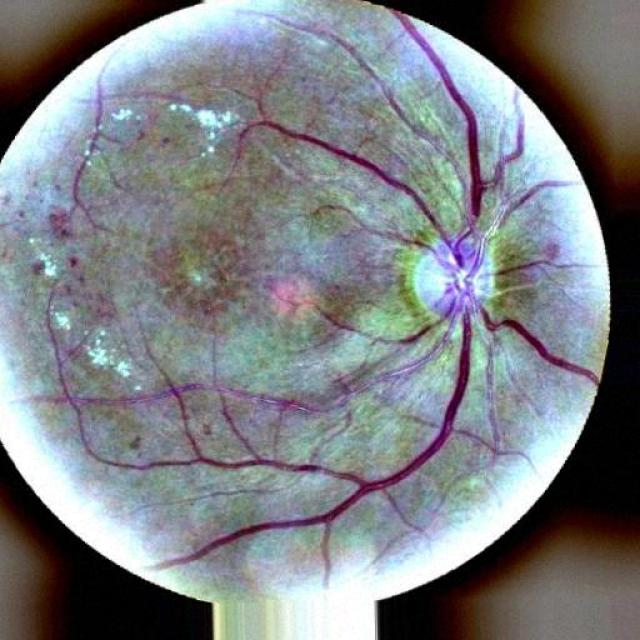Macula: (182, 247, 316, 336)
Nerves: (62, 102, 603, 578)
Optic Disk: (384, 221, 514, 334)
